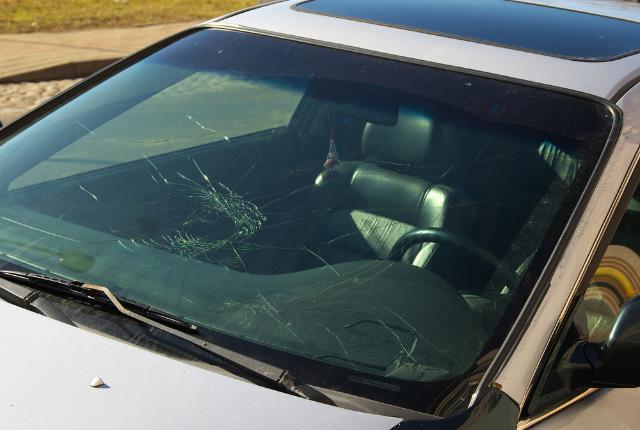glass shatter: (0, 28, 609, 382)
